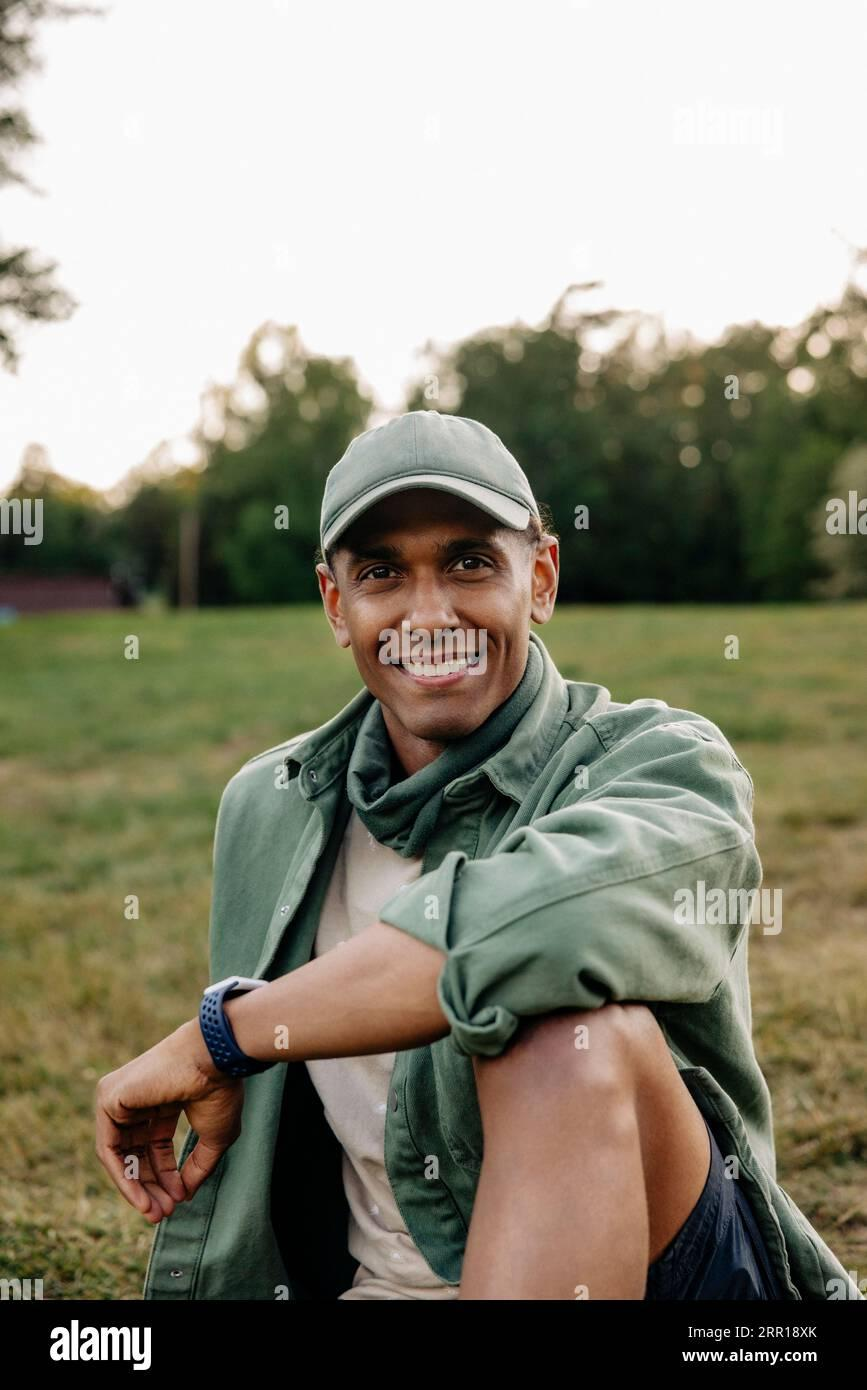cap: (270, 343, 590, 580)
